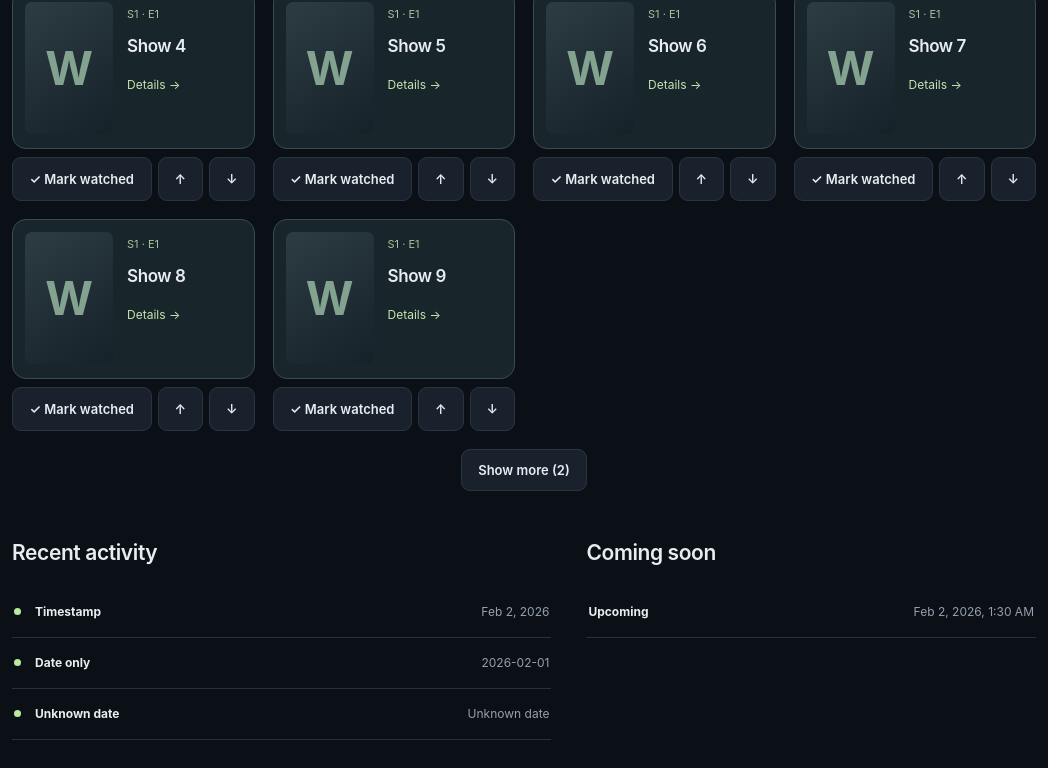
Scenario: large up-next lists keep the rest of the dashboard reachable and expand on request
The width and height of the screenshot is (1048, 768).
(page scrolled)
Expected: the link "W S1 · E1 Show 9 Details →" is shown, x1=272 y1=220 x2=515 y2=380
Expected: the link "Show 10" is not shown
Click the button "Show more (2)": point(524, 470) x1=461 y1=450 x2=587 y2=492
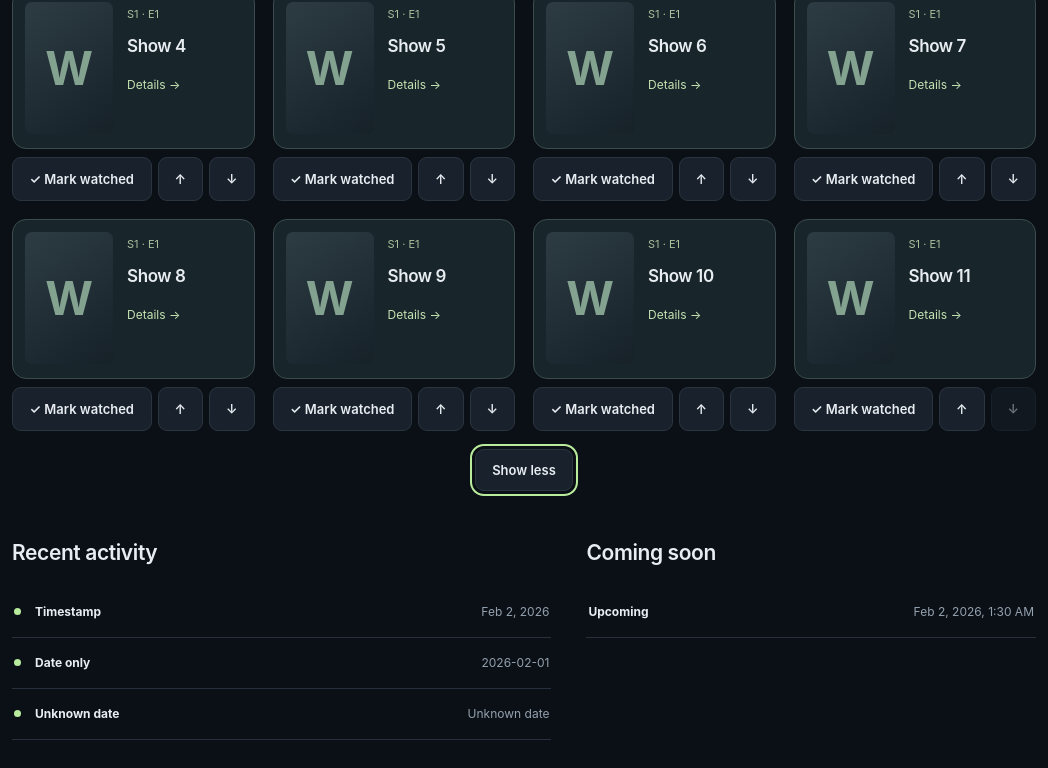
Now the link "W S1 · E1 Show 10 Details →" is shown, box x1=533 y1=220 x2=776 y2=380
Now the button named "Show more" is expanded
Click the button named "Show more": point(524, 470) x1=475 y1=450 x2=573 y2=492
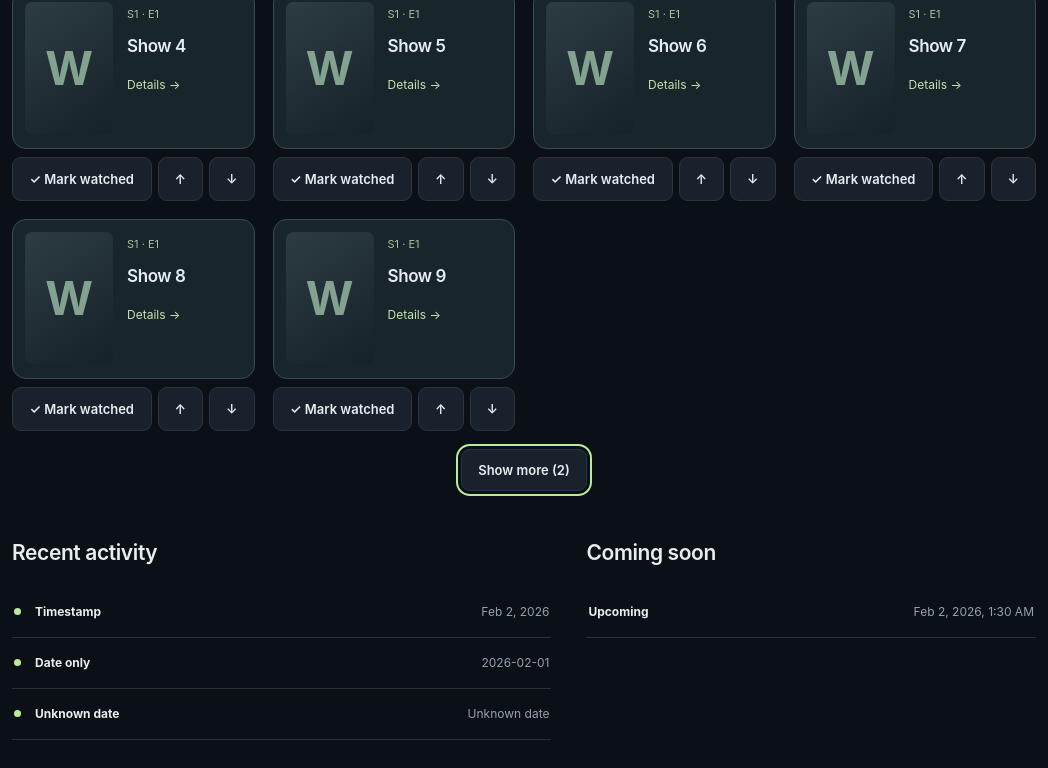
Now the link "Show 10" is gone
